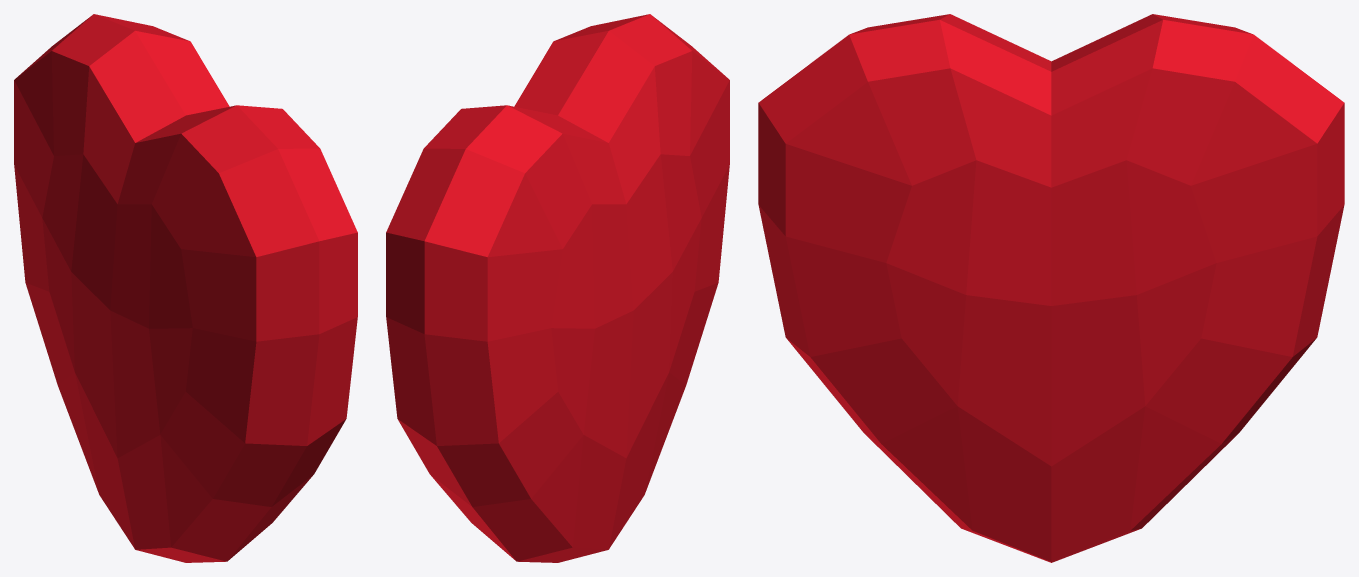
Rendered from heart.fbx.
3 renders of one model, left to right at view 1: azimuth 30°, elevation 25°; view 2: azimuth 150°, elevation 25°; view 3: azimuth 270°, elevation 25°, orthographic. The views are drawn at different scales.
Parts seen in each view (by area): view 1: Cube.001; view 2: Cube.001; view 3: Cube.001.
Part boxes in pixels (box(x1,y1,x2,y2)): Cube.001: box(14, 14, 357, 562); Cube.001: box(386, 14, 729, 562); Cube.001: box(758, 14, 1344, 562).
Bounding box in the file's own units: 65.63 × 205 × 200.
